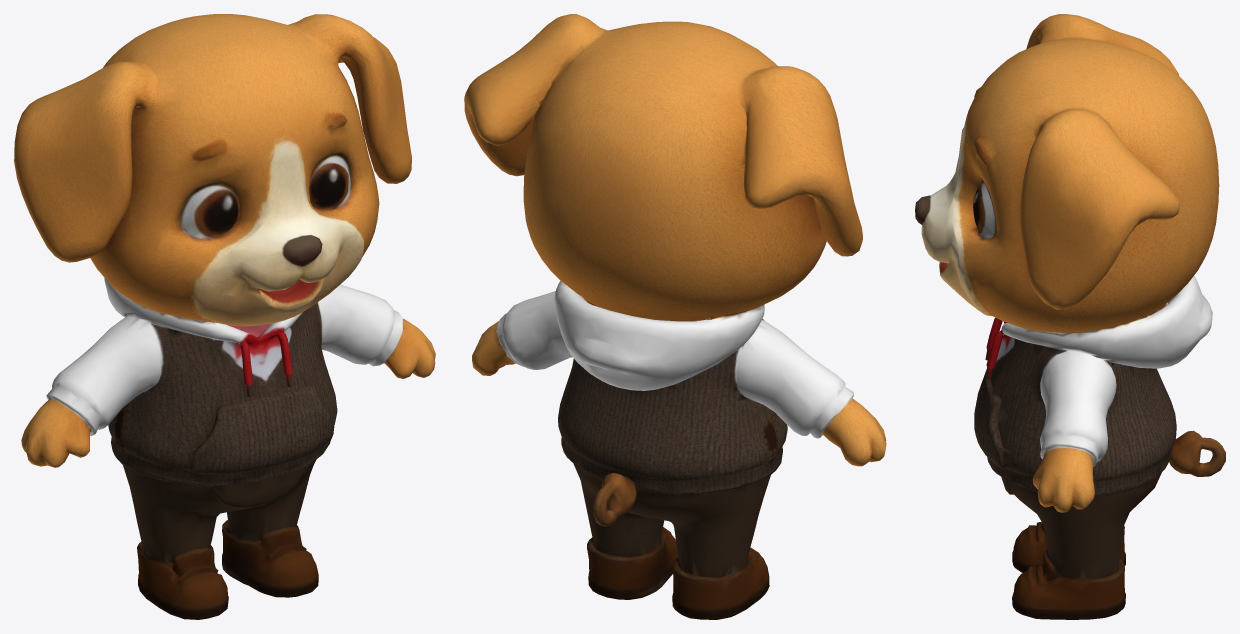
Rendered from village_chief.glb.
3 views of the same model, side by side, from view 1: azimuth 30°, elevation 25°; view 2: azimuth 150°, elevation 25°; view 3: azimuth 270°, elevation 25° (orthographic). The views are drawn at different scales.
Visible parts, largest first — view 1: geom0; view 2: geom0; view 3: geom0.
Boxes of the visible parts, left/top/right/bottom form: geom0: left=14, top=14, right=435, bottom=619; geom0: left=464, top=14, right=886, bottom=619; geom0: left=915, top=14, right=1225, bottom=619.
Size of the model in its own units: 0.7743 by 1 by 0.5334.
1 material, 1 textured.
